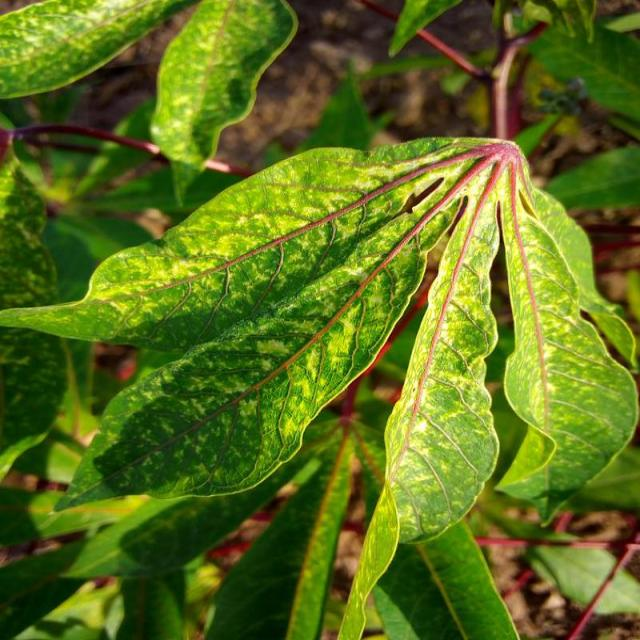cassava leaf: (1, 132, 636, 634)
